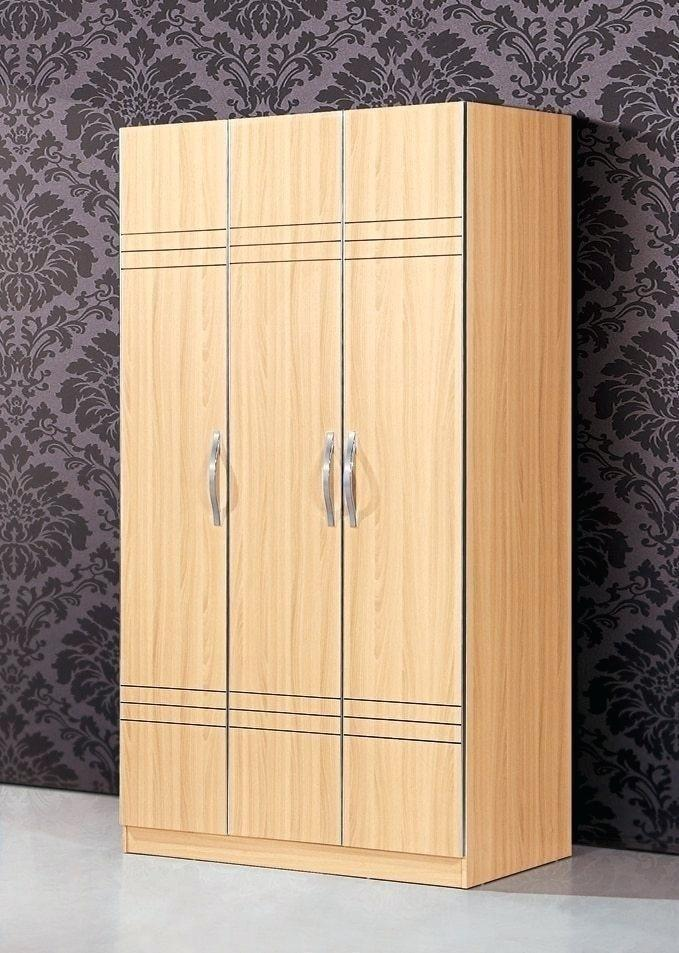Armario: (107, 100, 583, 899)
